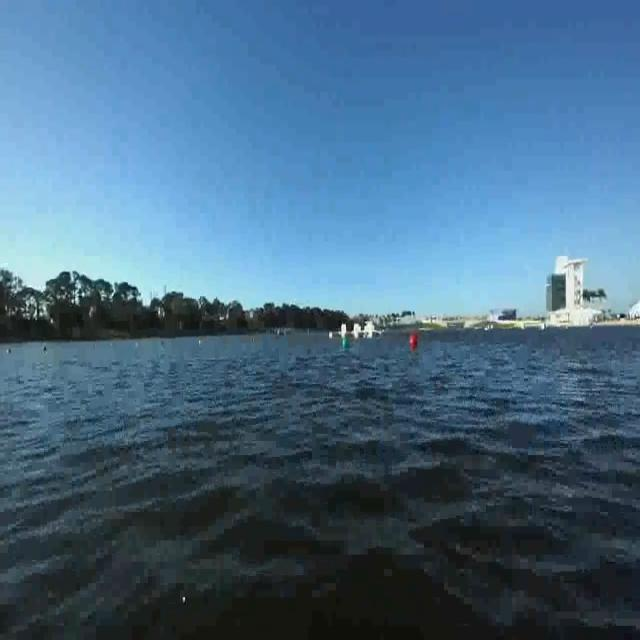green-buoy: (338, 336, 352, 352)
red-buoy: (411, 333, 419, 349)
